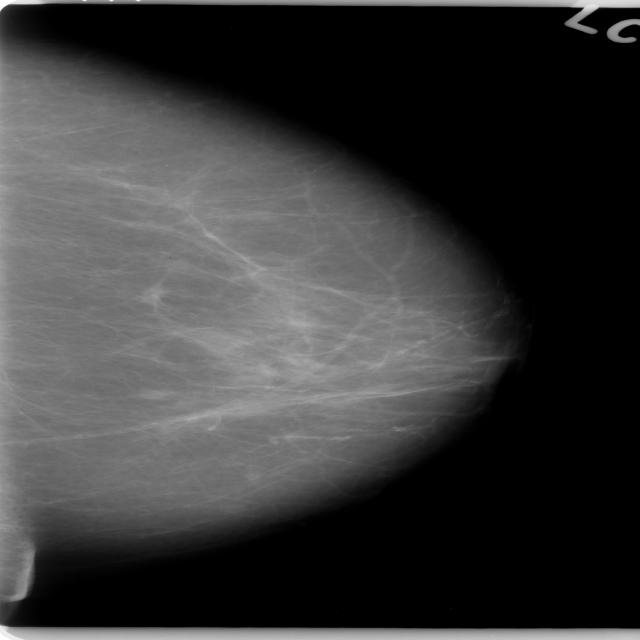normal: (0, 32, 506, 550)
